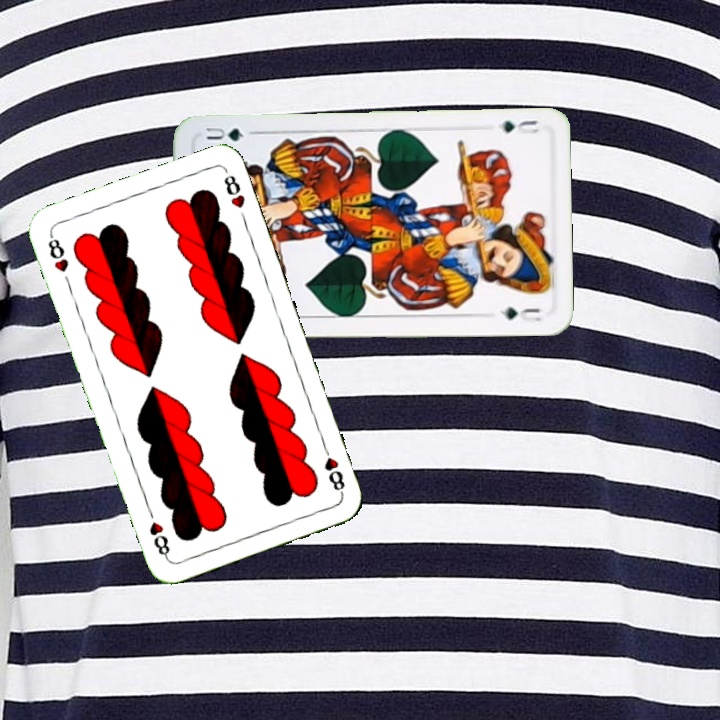GU: (494, 116, 542, 137)
H8: (318, 440, 348, 497), (44, 230, 71, 275)
